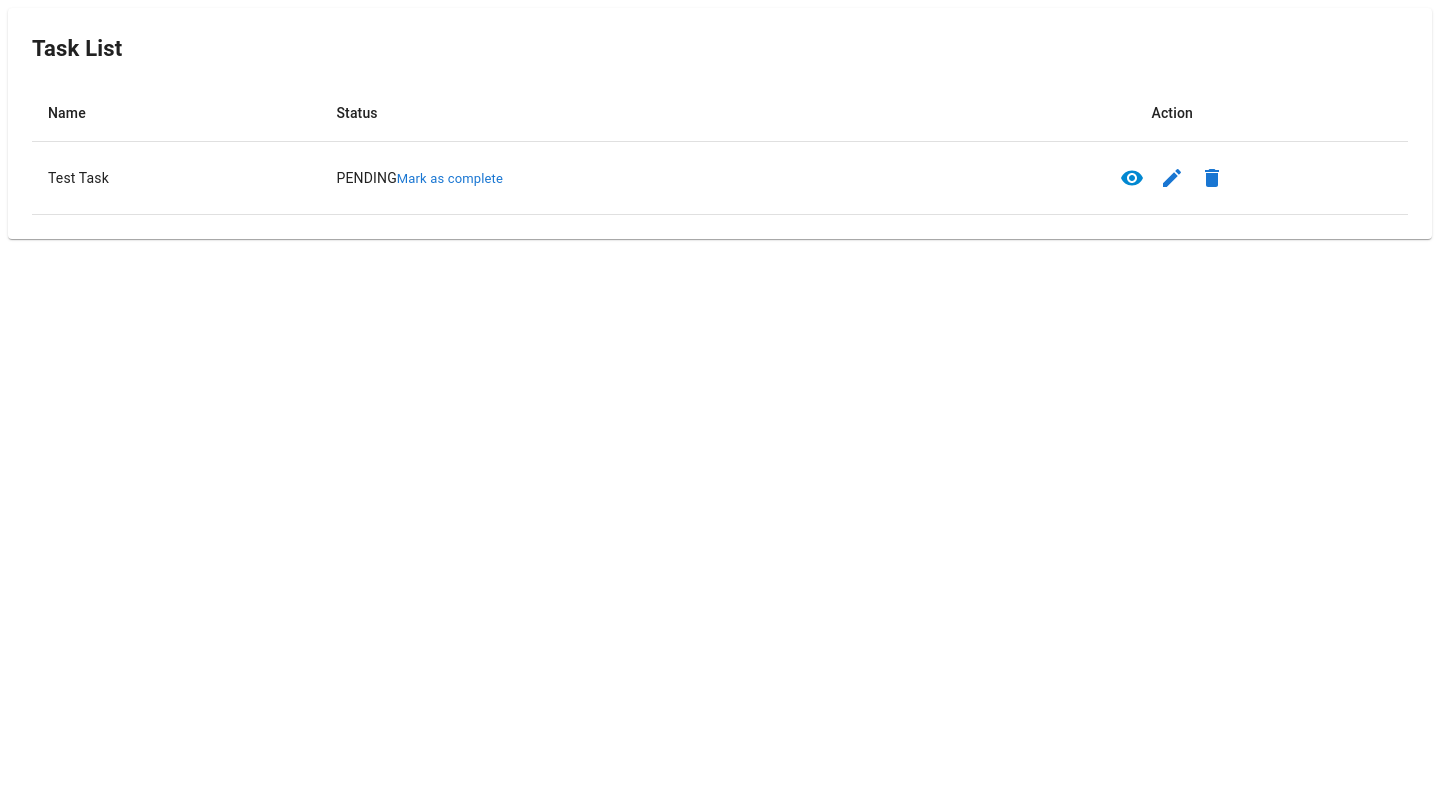
Scenario: TaskList › opens delete confirmation dialog
Click the button named "delete-task".
click(1212, 178)  # box top-left (1192, 158), bottom-right (1232, 198)
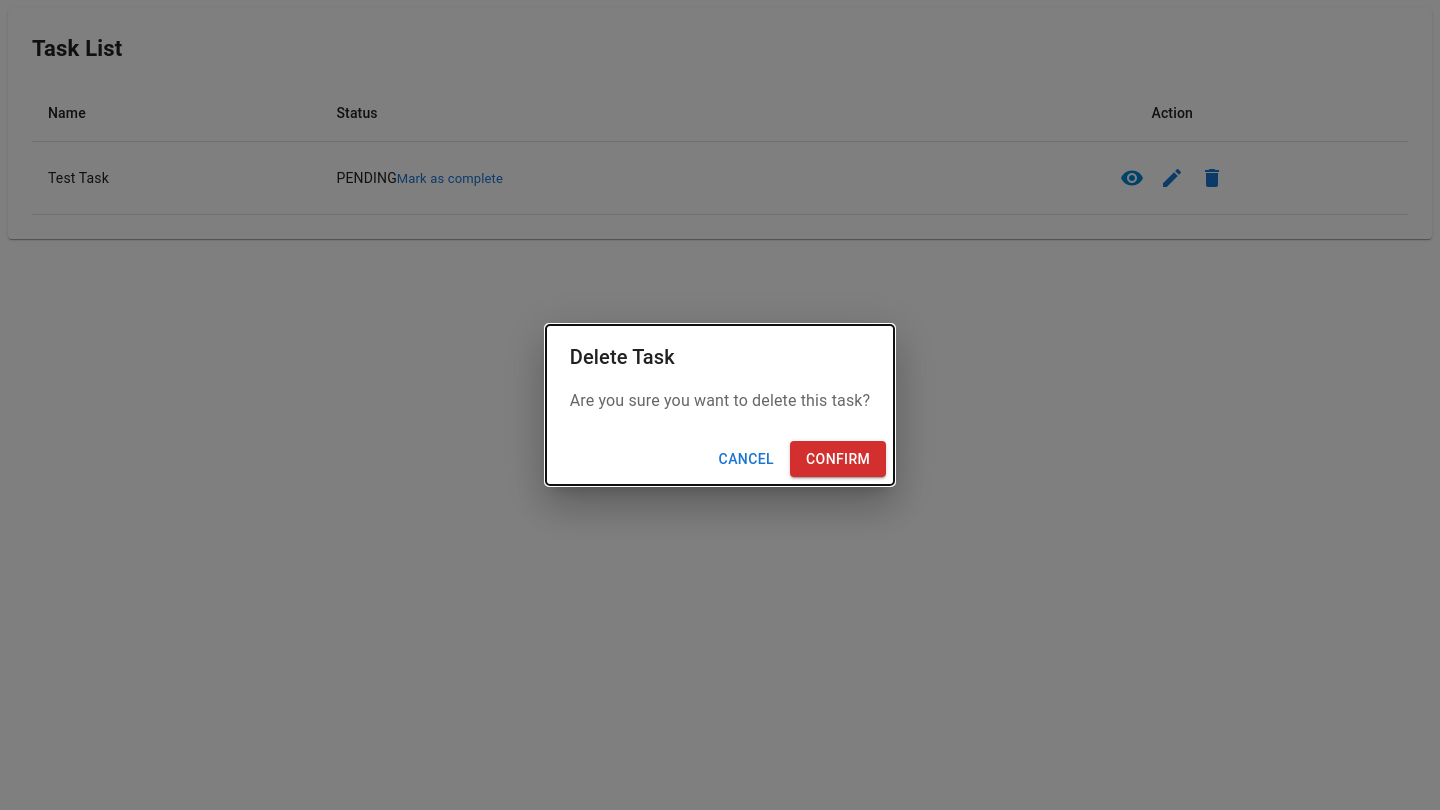
expect the text "Are you sure you want to delete this task?" is shown: met, box top-left (570, 389), bottom-right (870, 413)
